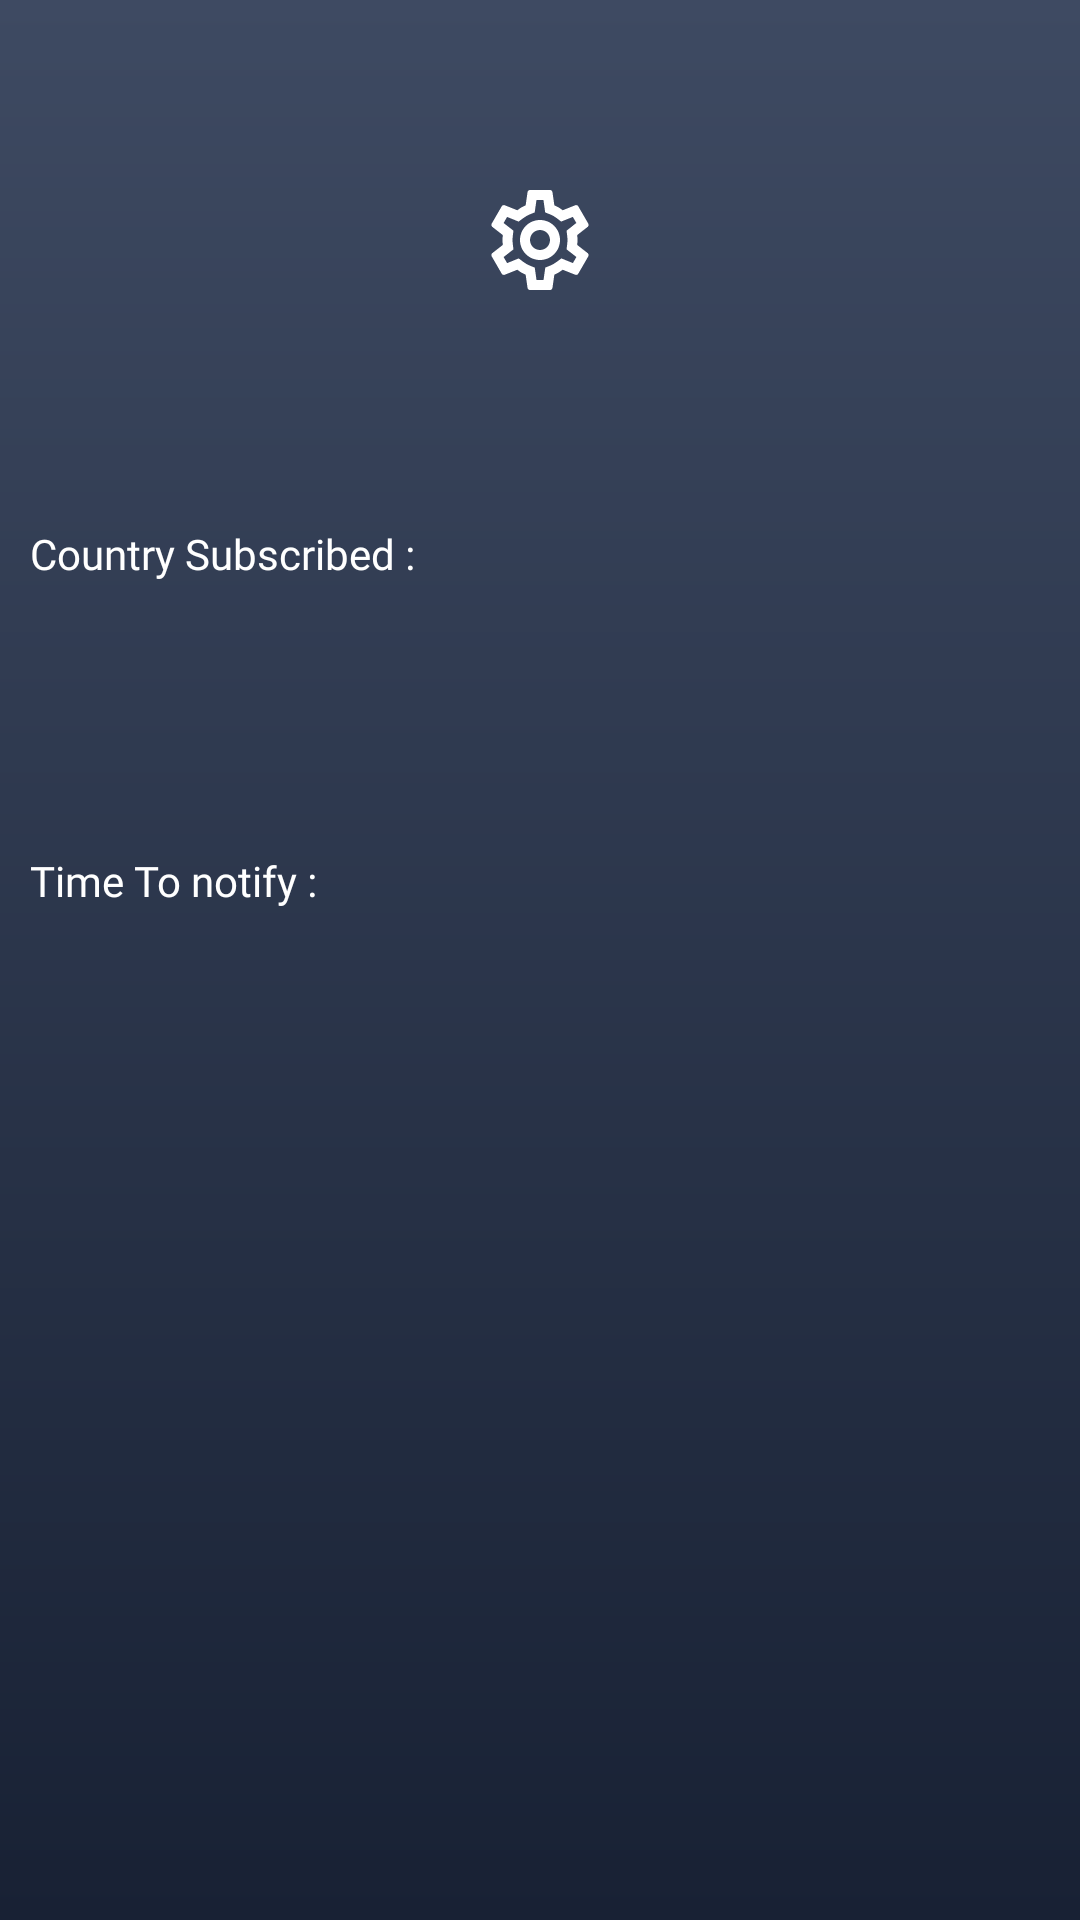

Icon click points for this 1080px x 1920px phone screenshot, format [x,y]:
settings: [540,240]
